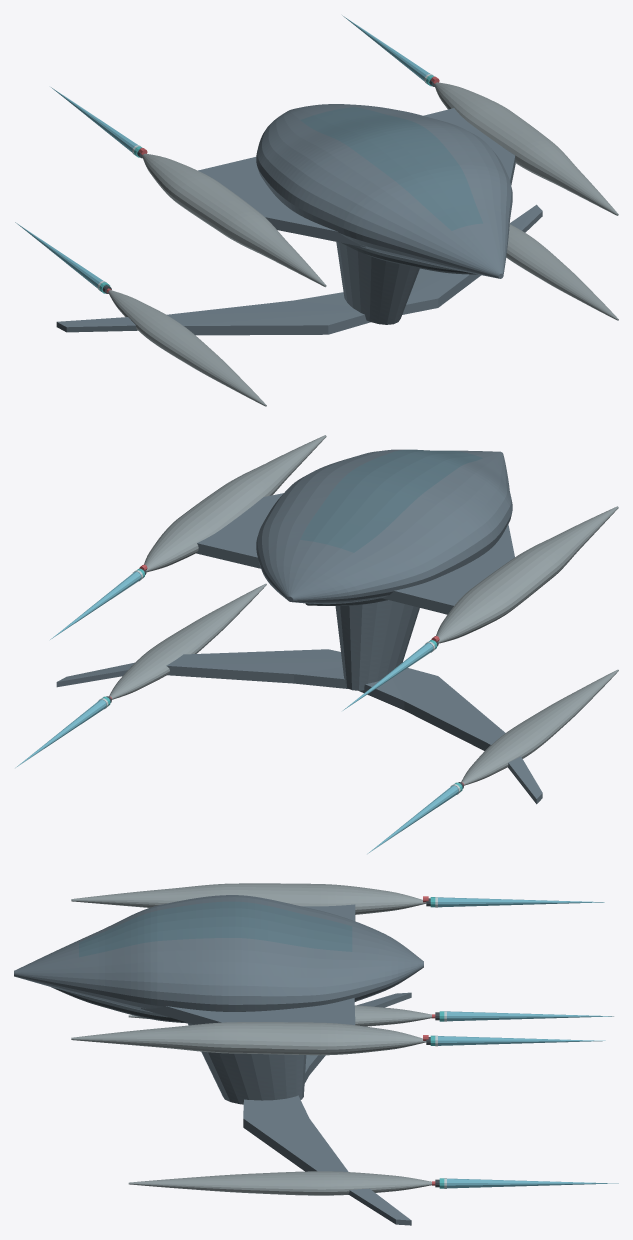
The model's file is arma_navy_flight.glb.
3 views of the same model, one above another, from view 1: azimuth 30°, elevation 25°; view 2: azimuth 150°, elevation 25°; view 3: azimuth 270°, elevation 25° (orthographic). The views are drawn at different scales.
Parts seen in each view (by area): view 1: material_0, material_3, material_1, material_7, material_2; view 2: material_0, material_3, material_1, material_7; view 3: material_0, material_3, material_1, material_7, material_2.
Boxes of the visible parts, bbox=[...] form: material_0: bbox=[56, 104, 542, 335]; material_3: bbox=[108, 82, 618, 406]; material_1: bbox=[300, 107, 482, 230]; material_7: bbox=[15, 15, 430, 288]; material_2: bbox=[102, 79, 477, 293]; material_0: bbox=[56, 449, 542, 804]; material_3: bbox=[109, 435, 618, 785]; material_1: bbox=[300, 449, 482, 552]; material_7: bbox=[15, 571, 458, 853]; material_0: bbox=[14, 895, 423, 1225]; material_3: bbox=[71, 883, 431, 1195]; material_1: bbox=[79, 901, 352, 957]; material_7: bbox=[438, 897, 618, 1188]; material_2: bbox=[51, 898, 439, 1187].
Size of the model in its own units: 4.8 by 1.91 by 5.39.
